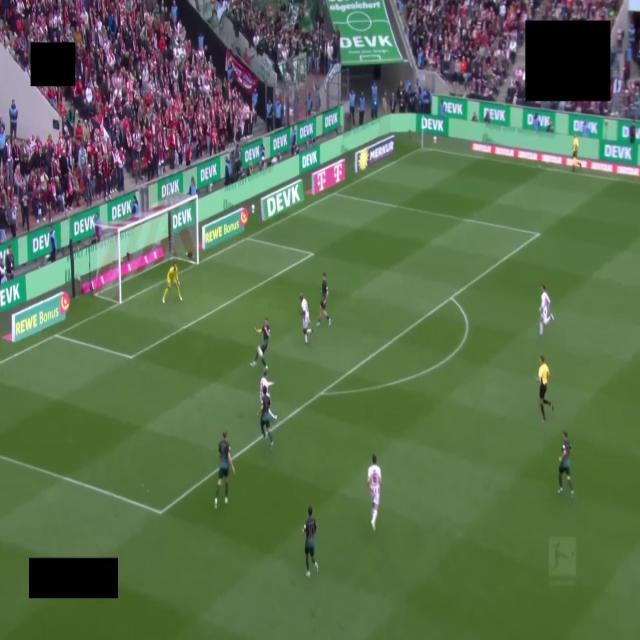player: (215, 431, 234, 508), (257, 387, 276, 448), (558, 432, 574, 499), (303, 506, 318, 576), (368, 455, 381, 530), (251, 318, 270, 369), (163, 263, 182, 303), (317, 273, 331, 326), (540, 285, 554, 335), (300, 294, 311, 343), (260, 369, 274, 403)
referee: (538, 356, 553, 421)
